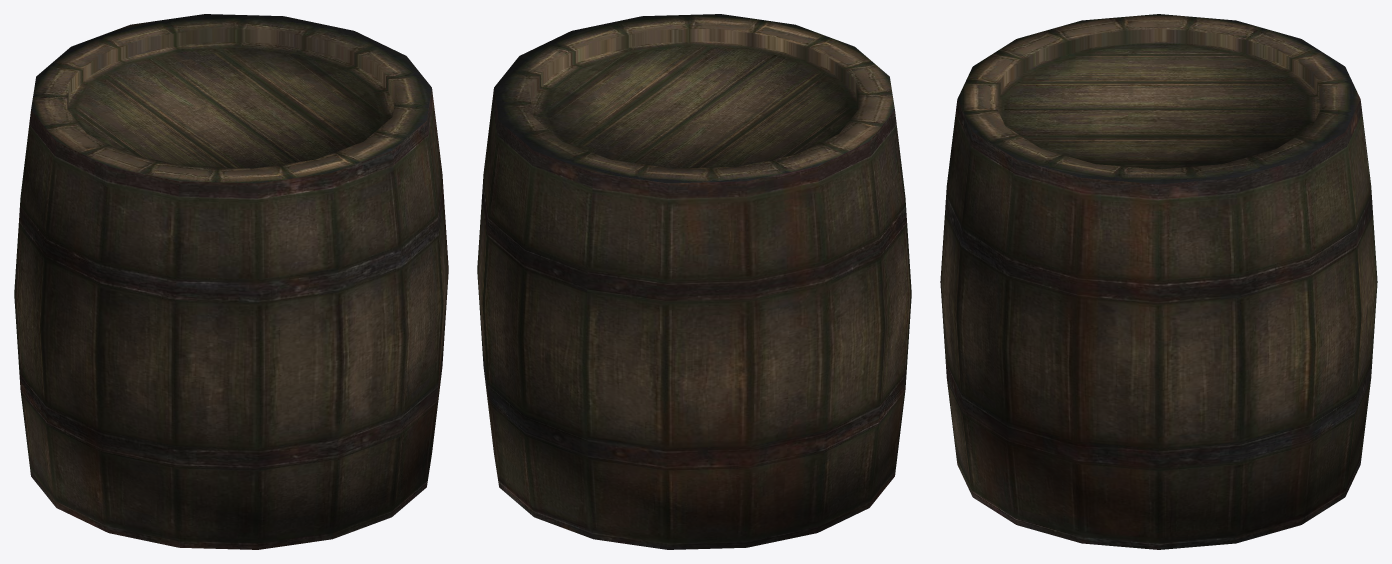
Rendered from barril3.fbx.
The picture shows the model from 3 angles, left to right: view 1: azimuth 30°, elevation 25°; view 2: azimuth 150°, elevation 25°; view 3: azimuth 270°, elevation 25°; orthographic projection.
Visible parts, largest first — view 1: Cylinder; view 2: Cylinder; view 3: Cylinder.
Part boxes in pixels (x1=…): Cylinder: x1=14, y1=14, x2=448, y2=549; Cylinder: x1=477, y1=14, x2=911, y2=549; Cylinder: x1=940, y1=14, x2=1377, y2=549.
Size of the model in its own units: 220 by 203 by 220.
1 material, 1 textured.
